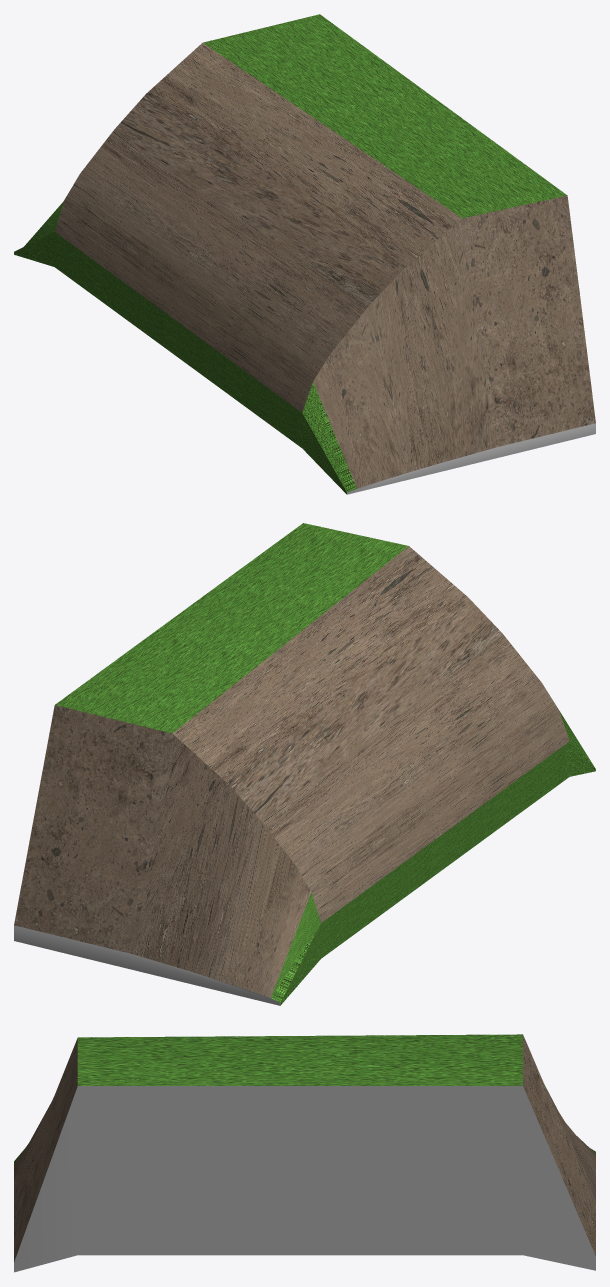
File: hill4.fbx
The picture shows the model from 3 angles, top to bottom: view 1: azimuth 30°, elevation 25°; view 2: azimuth 150°, elevation 25°; view 3: azimuth 270°, elevation 25°; orthographic projection. The views are drawn at different scales.
Visible parts, largest first — view 1: pCube1; view 2: pCube1; view 3: pCube1.
Boxes of the visible parts, x1=… form: pCube1: x1=14, y1=14, x2=595, y2=494; pCube1: x1=14, y1=523, x2=595, y2=1005; pCube1: x1=14, y1=1034, x2=595, y2=1272.
Bounding box in the file's own units: 9.6 × 7.38 × 20.27.
3 materials, 2 textured.
